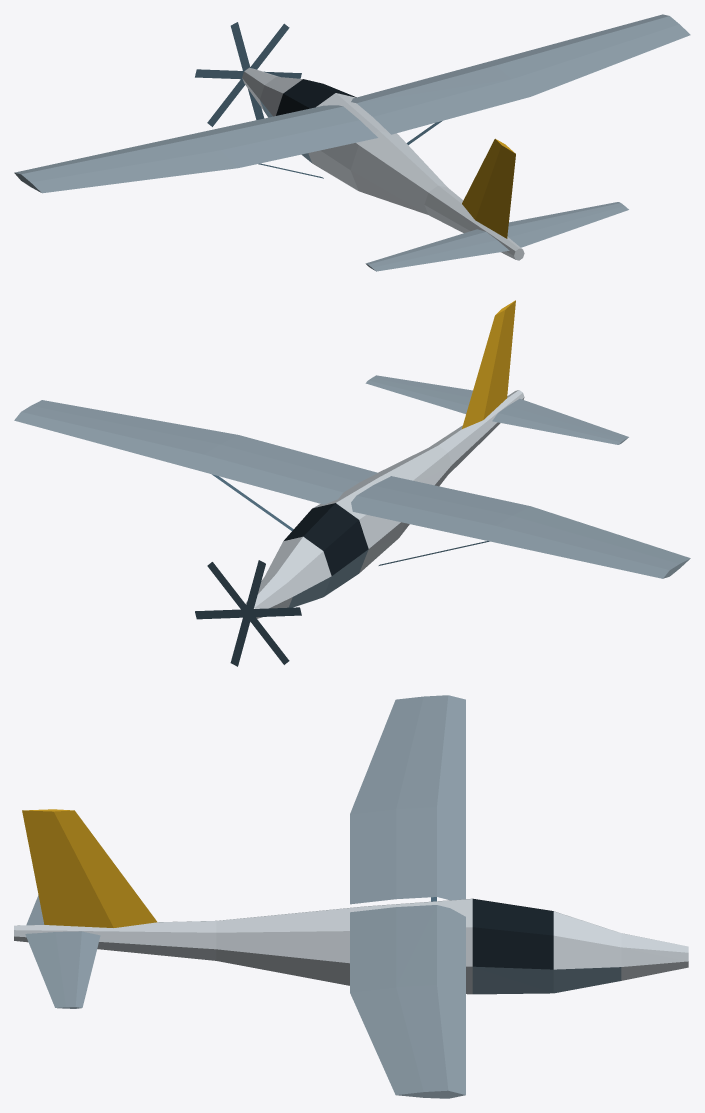
3 views of the same model, one above another, from view 1: azimuth 30°, elevation 25°; view 2: azimuth 150°, elevation 25°; view 3: azimuth 270°, elevation 25° (orthographic). The views are drawn at different scales.
Parts seen in each view (by area): view 1: lod0; view 2: lod0; view 3: lod0.
Boxes of the visible parts, x1,y1,x2,y2 form: lod0: (14,14,690,271); lod0: (14,300,690,666); lod0: (14,695,688,1098).
Size of what is drawn, in the model's own units: 1.38 by 0.3532 by 1.
